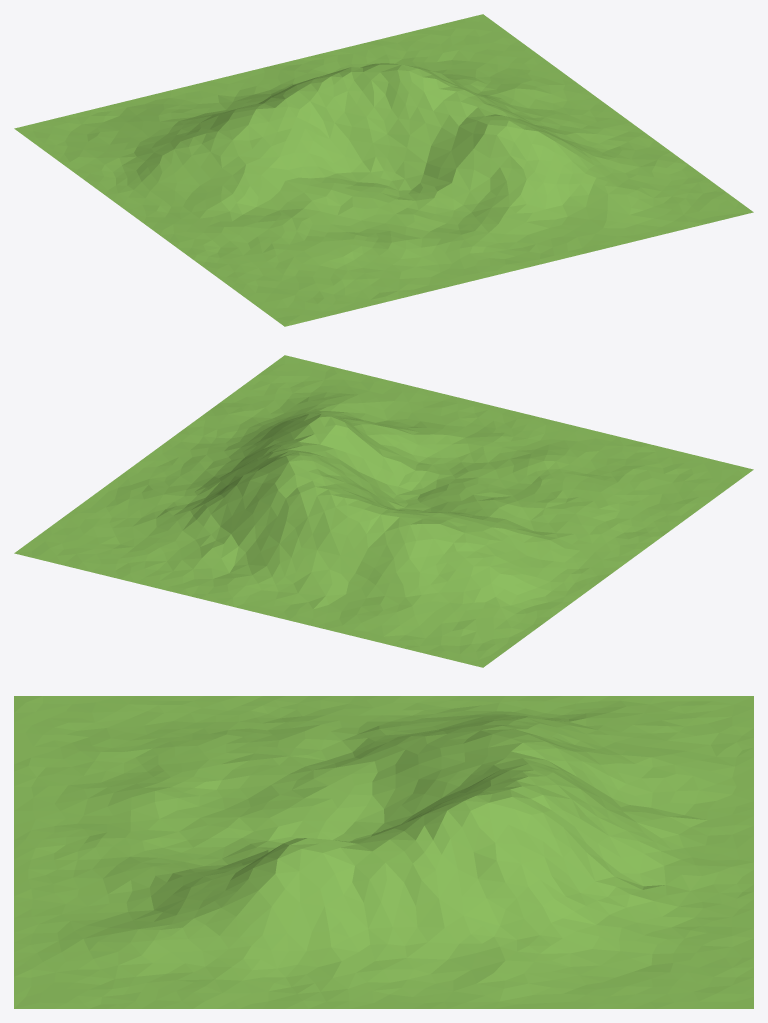
File: MT_Terrain_L_a_28.fbx
3 renders of one model, top to bottom at view 1: azimuth 30°, elevation 25°; view 2: azimuth 150°, elevation 25°; view 3: azimuth 270°, elevation 25°, orthographic. The views are drawn at different scales.
Visible parts, largest first — view 1: MT_Terrain_L_a_28; view 2: MT_Terrain_L_a_28; view 3: MT_Terrain_L_a_28.
Boxes of the visible parts, left/top/right/bottom form: MT_Terrain_L_a_28: left=14, top=14, right=753, bottom=326; MT_Terrain_L_a_28: left=14, top=355, right=753, bottom=667; MT_Terrain_L_a_28: left=14, top=696, right=753, bottom=1008.
Bounding box in the file's own units: 10000 × 1348 × 10000.
